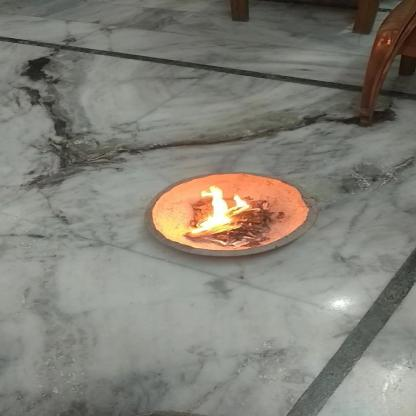fire: (188, 184, 258, 236)
